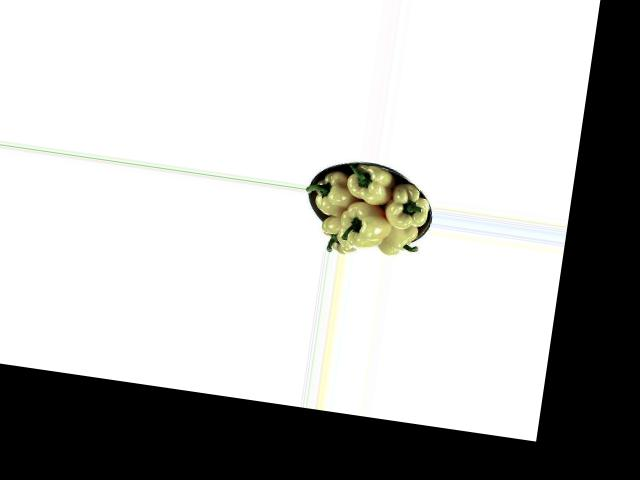bell_pepper: (314, 209, 361, 255)
